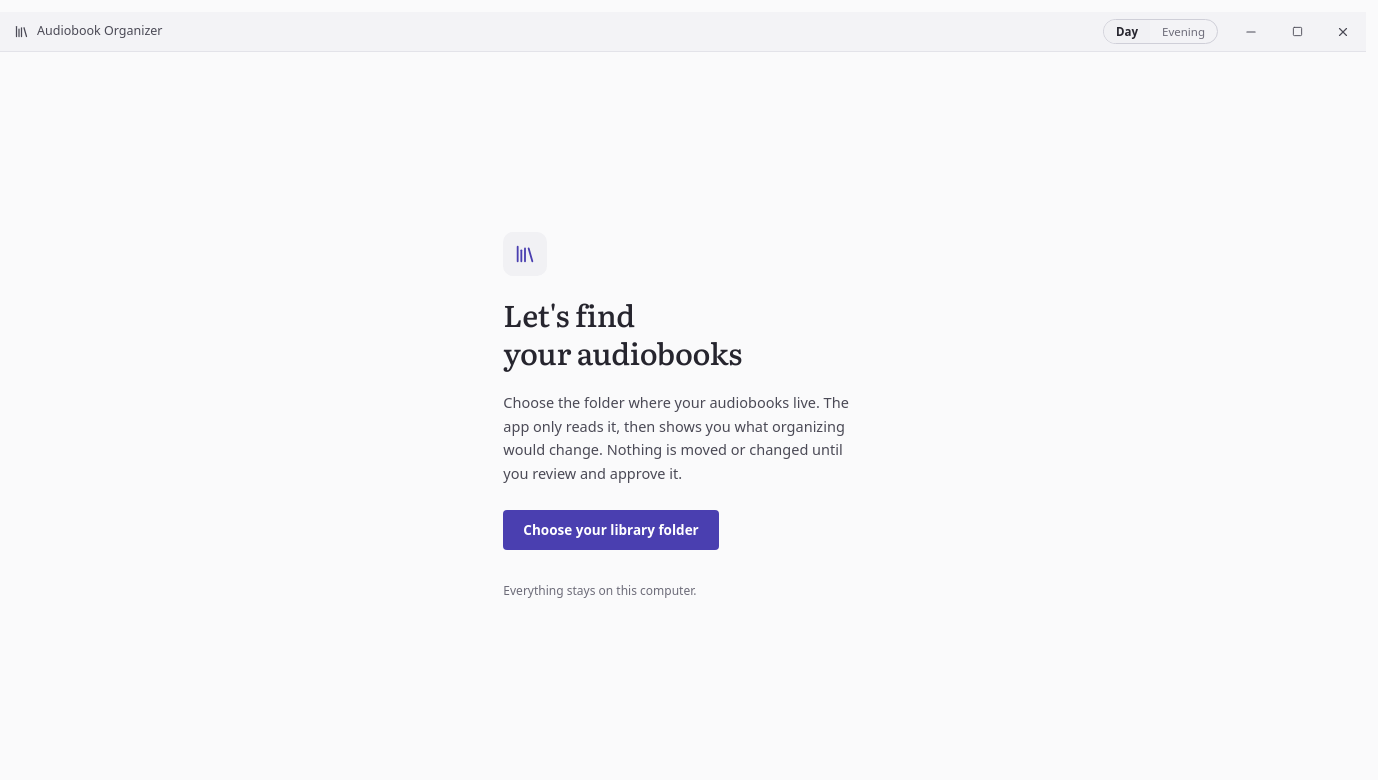
Test: AppRoot first-run gating › advances from first-run to the shell once a folder is picked and persisted
Step 1. Click the button "Choose your library folder" → (611, 530), box [503,510,719,550]
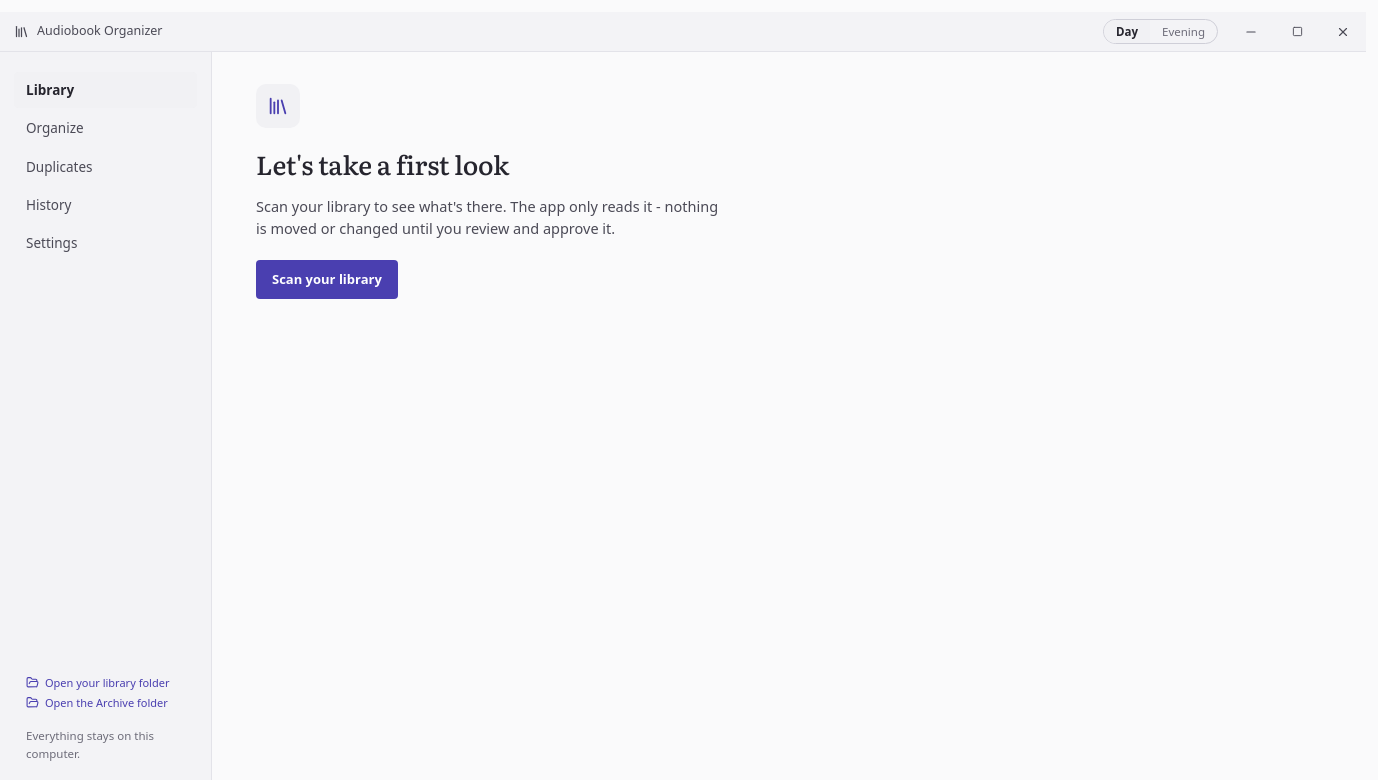
Check: the navigation bar named "Main" is shown, box [0,52,212,779]
